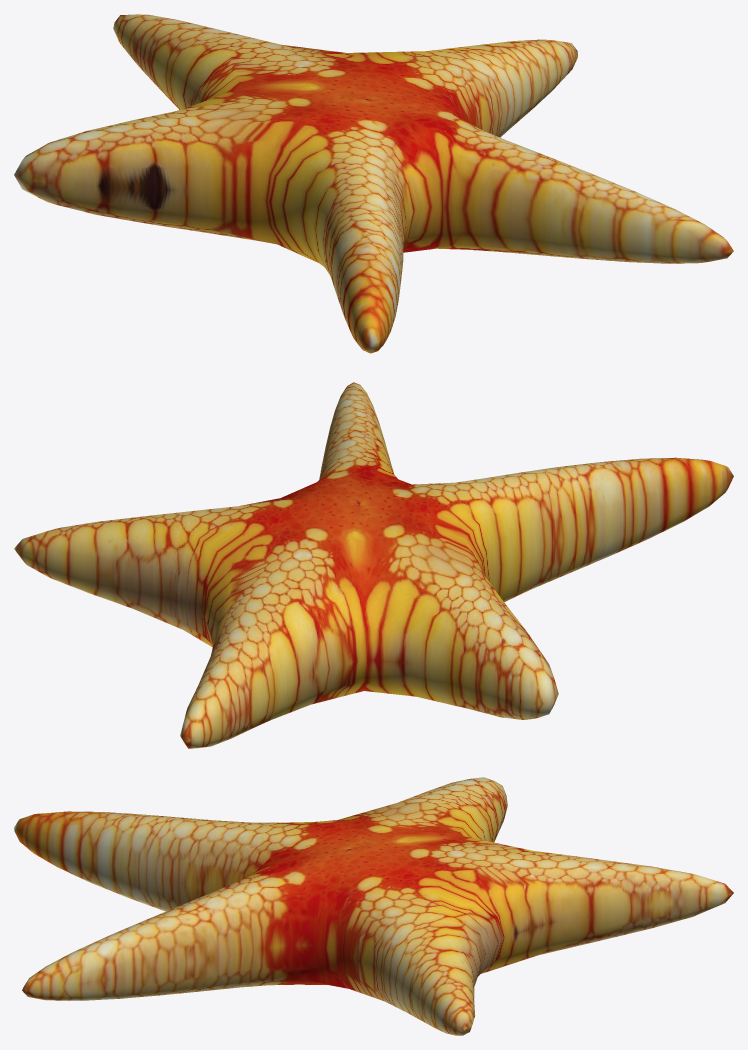
File: star.fbx
3 views of the same model, one above another, from view 1: azimuth 30°, elevation 25°; view 2: azimuth 150°, elevation 25°; view 3: azimuth 270°, elevation 25° (orthographic). The views are drawn at different scales.
Parts seen in each view (by area): view 1: starfish; view 2: starfish; view 3: starfish.
Boxes of the visible parts, x1,y1,x2,y2 form: starfish: (14, 14, 733, 353); starfish: (14, 382, 733, 748); starfish: (14, 777, 733, 1035).
Size of the model in its own units: 124 by 29.09 by 156.
